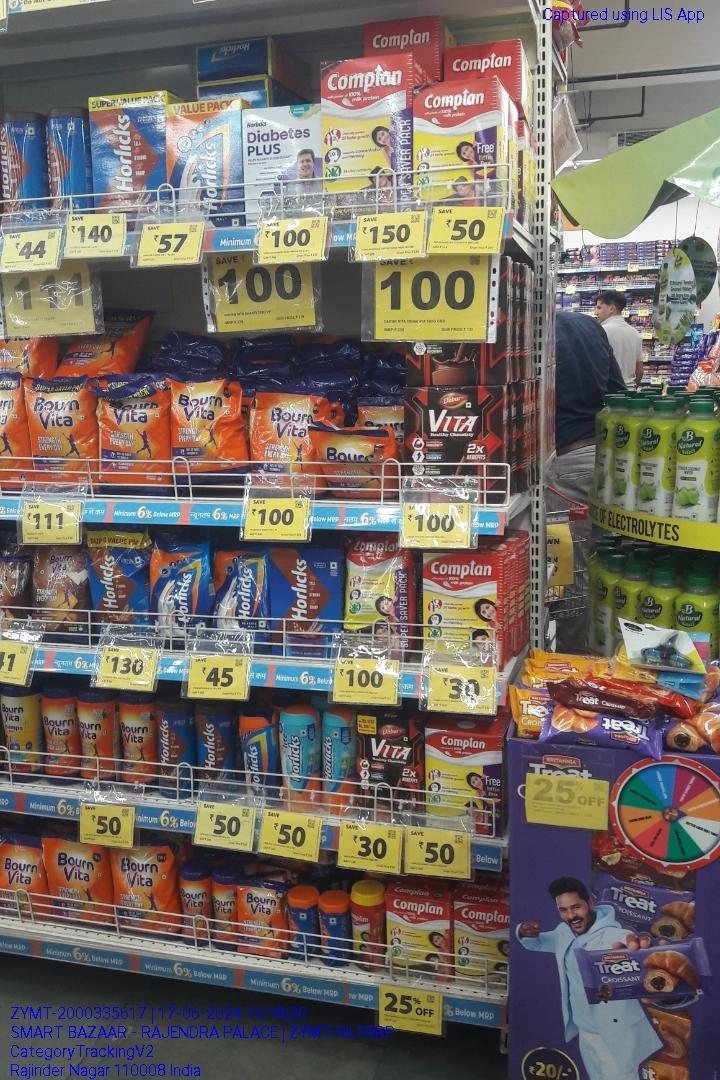BOURN_VITA_1_KG_POUCH: (27, 375, 97, 491), (100, 385, 169, 495)
BOURN_VITA_500_G_JAR: (79, 687, 117, 787), (119, 691, 155, 791), (44, 686, 77, 781), (181, 863, 212, 947), (213, 870, 238, 950)
BOURN_VITA_750_G_POUCH: (173, 379, 246, 494), (251, 390, 315, 495), (43, 841, 111, 924), (116, 844, 177, 935)
BOURN_VITA_CHAMPS_500_G_JAR: (3, 686, 43, 780)
BOURN_VITA_FIVE_STAR_MAGIC_750_G_POUCH: (30, 543, 89, 639)
COMPLAN_CHOCOLATE_1_KG_PACK: (321, 58, 410, 216)
COMPLAN_CHOCOLATE_500_GMS_PACK: (413, 83, 502, 210), (424, 726, 498, 835), (387, 896, 450, 979)
COMPLAN_KESAR_BADAM_500_GMS_PACK: (422, 553, 502, 664), (453, 901, 510, 989)
COMPLAN_RC_POUCH_700_GMS_12: (346, 534, 411, 662)
HORLICKS_LITE_REGULAR_MALT_500_GM_JAR: (322, 704, 357, 814), (284, 704, 319, 813)
HORLICK_CHOCOLATE_1_KG_JAR: (0, 112, 43, 223)
HORLICK_CHOCOLATE_1_KG_PACK: (96, 92, 163, 222)
HORLICK_CHOCOLATE_500_G_JAR: (155, 695, 194, 793), (197, 701, 236, 798)
HORLICK_CHOCOLATE_500_G_PACK: (270, 547, 339, 652)
HORLICK_CHOCOLATE_750_G_POUCH: (92, 531, 151, 638)
HORLICK_CLASSIC_MALT_500_G_JAR: (238, 704, 281, 807)
HORLICK_CLASSIC_MALT_750_G_POUCH: (154, 537, 211, 643), (214, 542, 267, 646)
